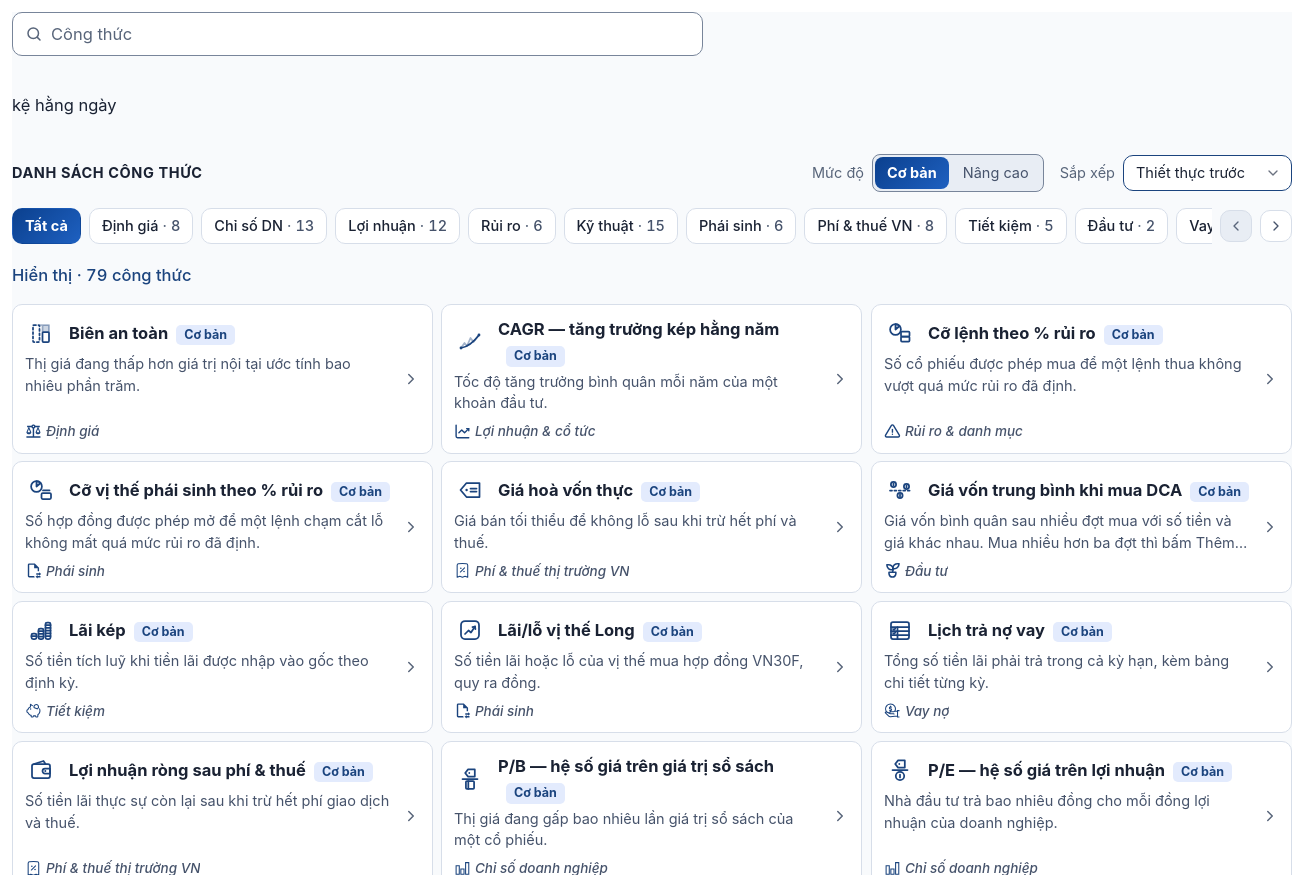
Test: FormulaListScreen — hàng chip nhóm và nút xoá bộ lọc › nút "Xoá bộ lọc" chỉ hiện khi có bộ lọc, và xoá bộ lọc mà giữ chuỗi tìm
The width and height of the screenshot is (1304, 875).
Expected: the button "Xoá bộ lọc" is not shown
Type "gia" into the search field named "Tìm công thức". click: (373, 34)
box: [51,24,694,44]
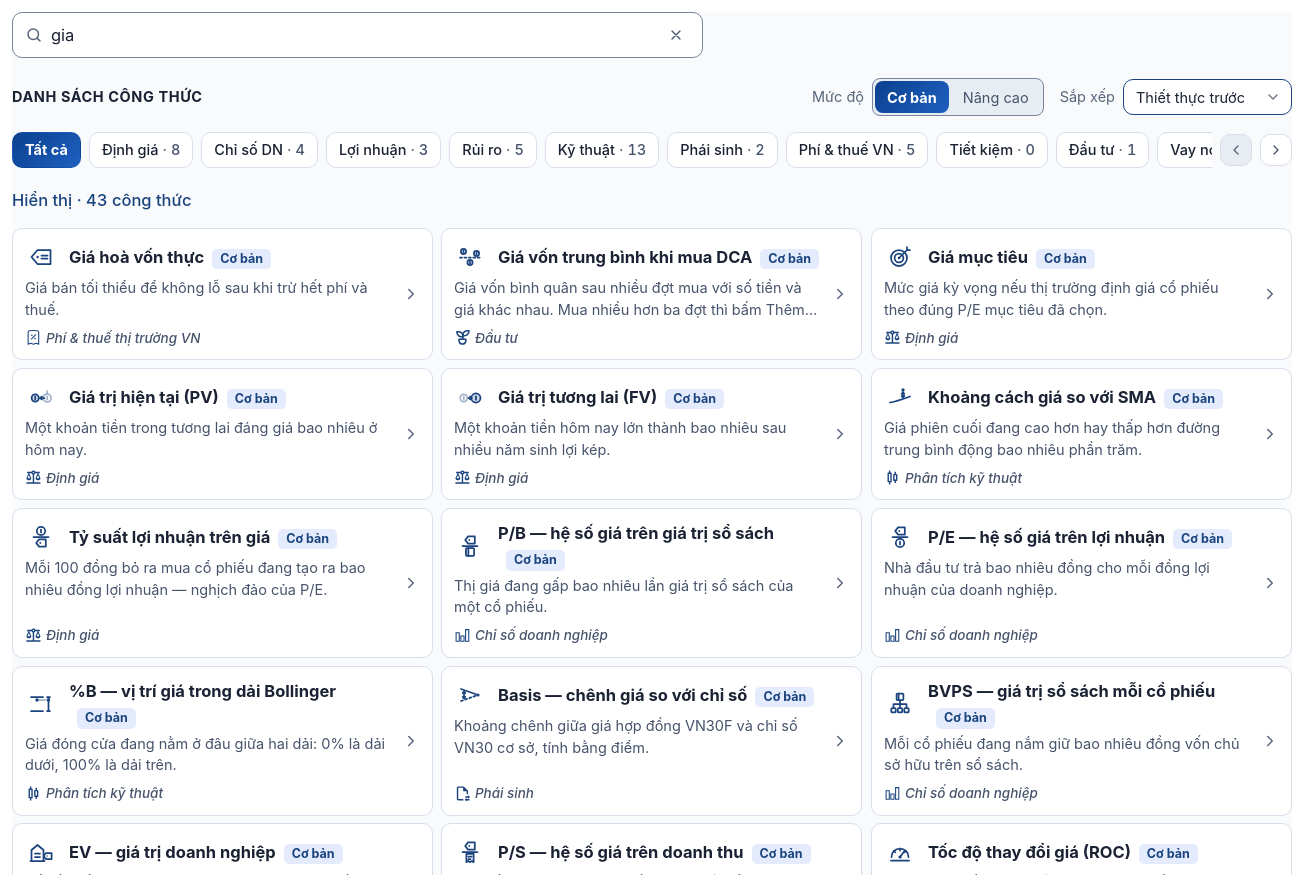
Expected: the button "Xoá bộ lọc" is not shown
Click the radio button labelled "Định giá · 8". click: (141, 150)
box: [89,132,193,168]
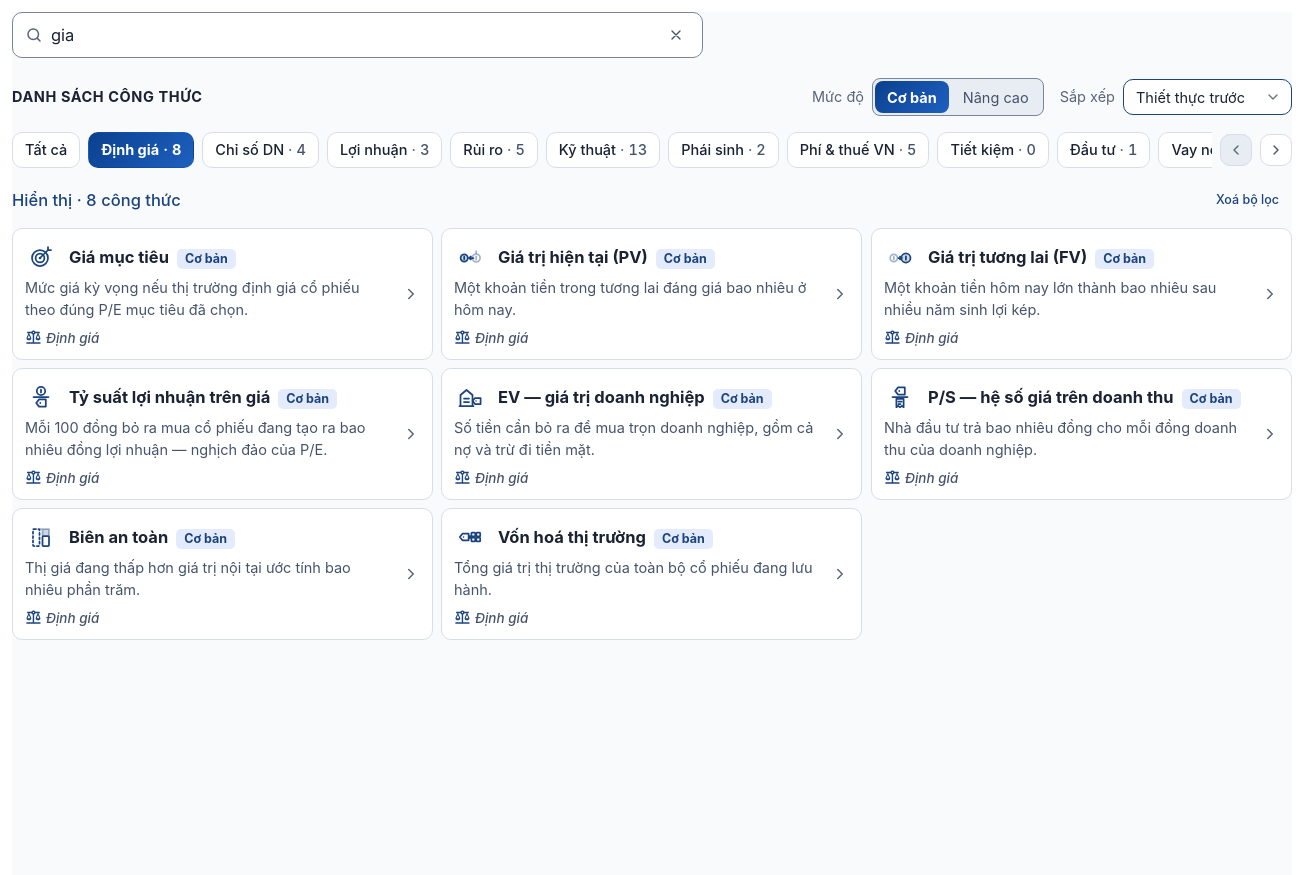
Click the button "Xoá bộ lọc". click: (1248, 200)
box: [1203,193,1292,207]
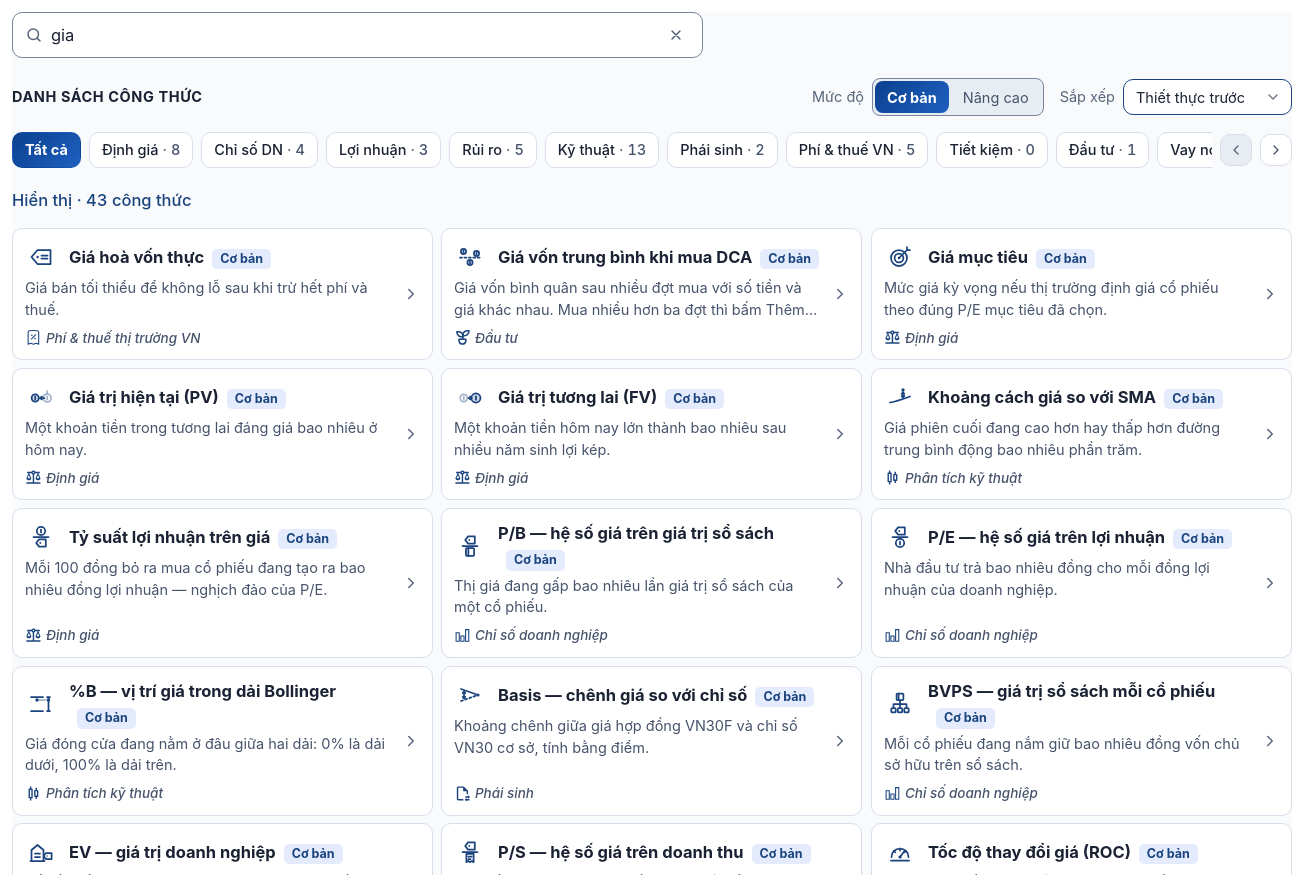
Expected: the radio button labelled "Tất cả" is checked, [12,132,81,168]
